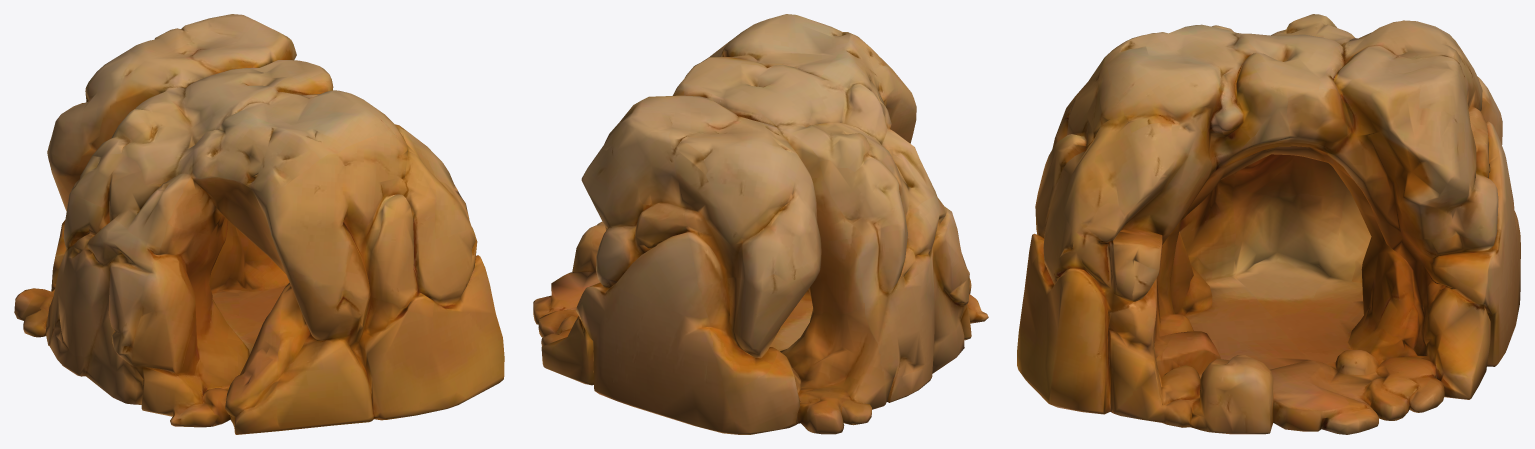
3 views of the same model, side by side, from view 1: azimuth 30°, elevation 25°; view 2: azimuth 150°, elevation 25°; view 3: azimuth 270°, elevation 25° (orthographic). The views are drawn at different scales.
Parts seen in each view (by area): view 1: tripo_node_bdbfd2da-19c7-44df-b27e-1428c649d56b; view 2: tripo_node_bdbfd2da-19c7-44df-b27e-1428c649d56b; view 3: tripo_node_bdbfd2da-19c7-44df-b27e-1428c649d56b.
Part boxes in pixels (bbox=[...]): tripo_node_bdbfd2da-19c7-44df-b27e-1428c649d56b: bbox=[14, 14, 504, 434]; tripo_node_bdbfd2da-19c7-44df-b27e-1428c649d56b: bbox=[533, 14, 988, 434]; tripo_node_bdbfd2da-19c7-44df-b27e-1428c649d56b: bbox=[1017, 14, 1520, 434].
Bounding box in the file's own units: 0.9306 × 0.6507 × 0.9978.
1 material, 1 textured.
